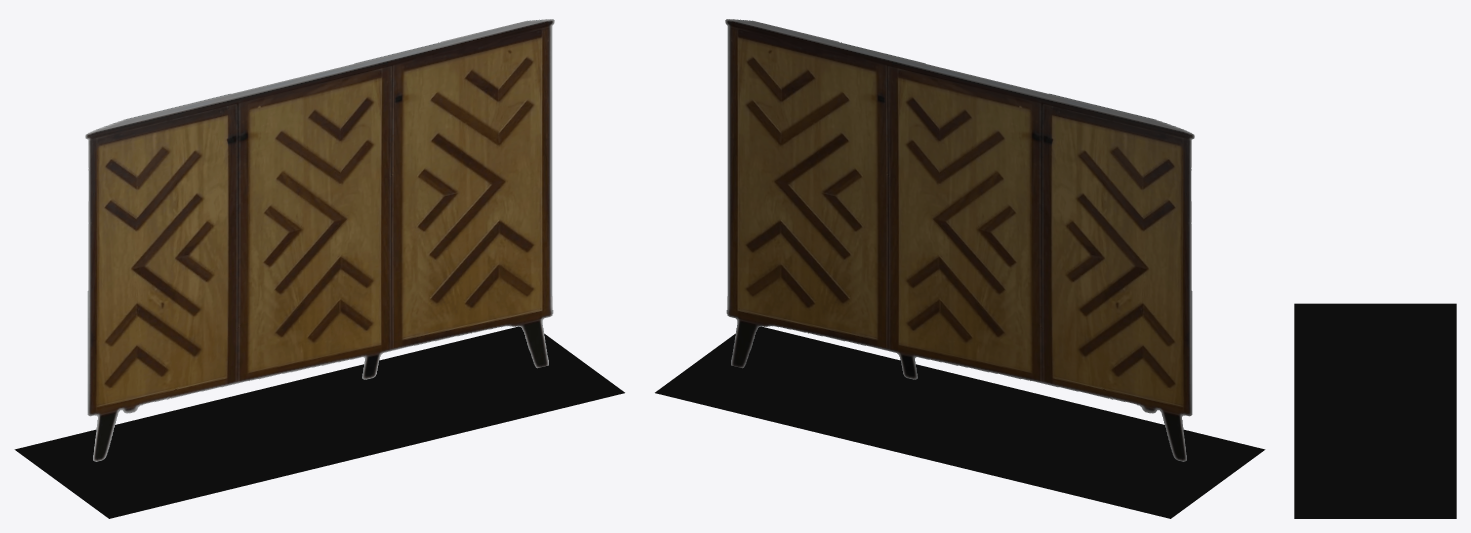
File: arm-1e07a79ec9.glb
3 views of the same model, side by side, from view 1: azimuth 30°, elevation 25°; view 2: azimuth 150°, elevation 25°; view 3: azimuth 270°, elevation 25° (orthographic). The views are drawn at different scales.
Size of the model in its own units: 1.32 by 0.857 by 0.42.
2 materials, 2 textured.
